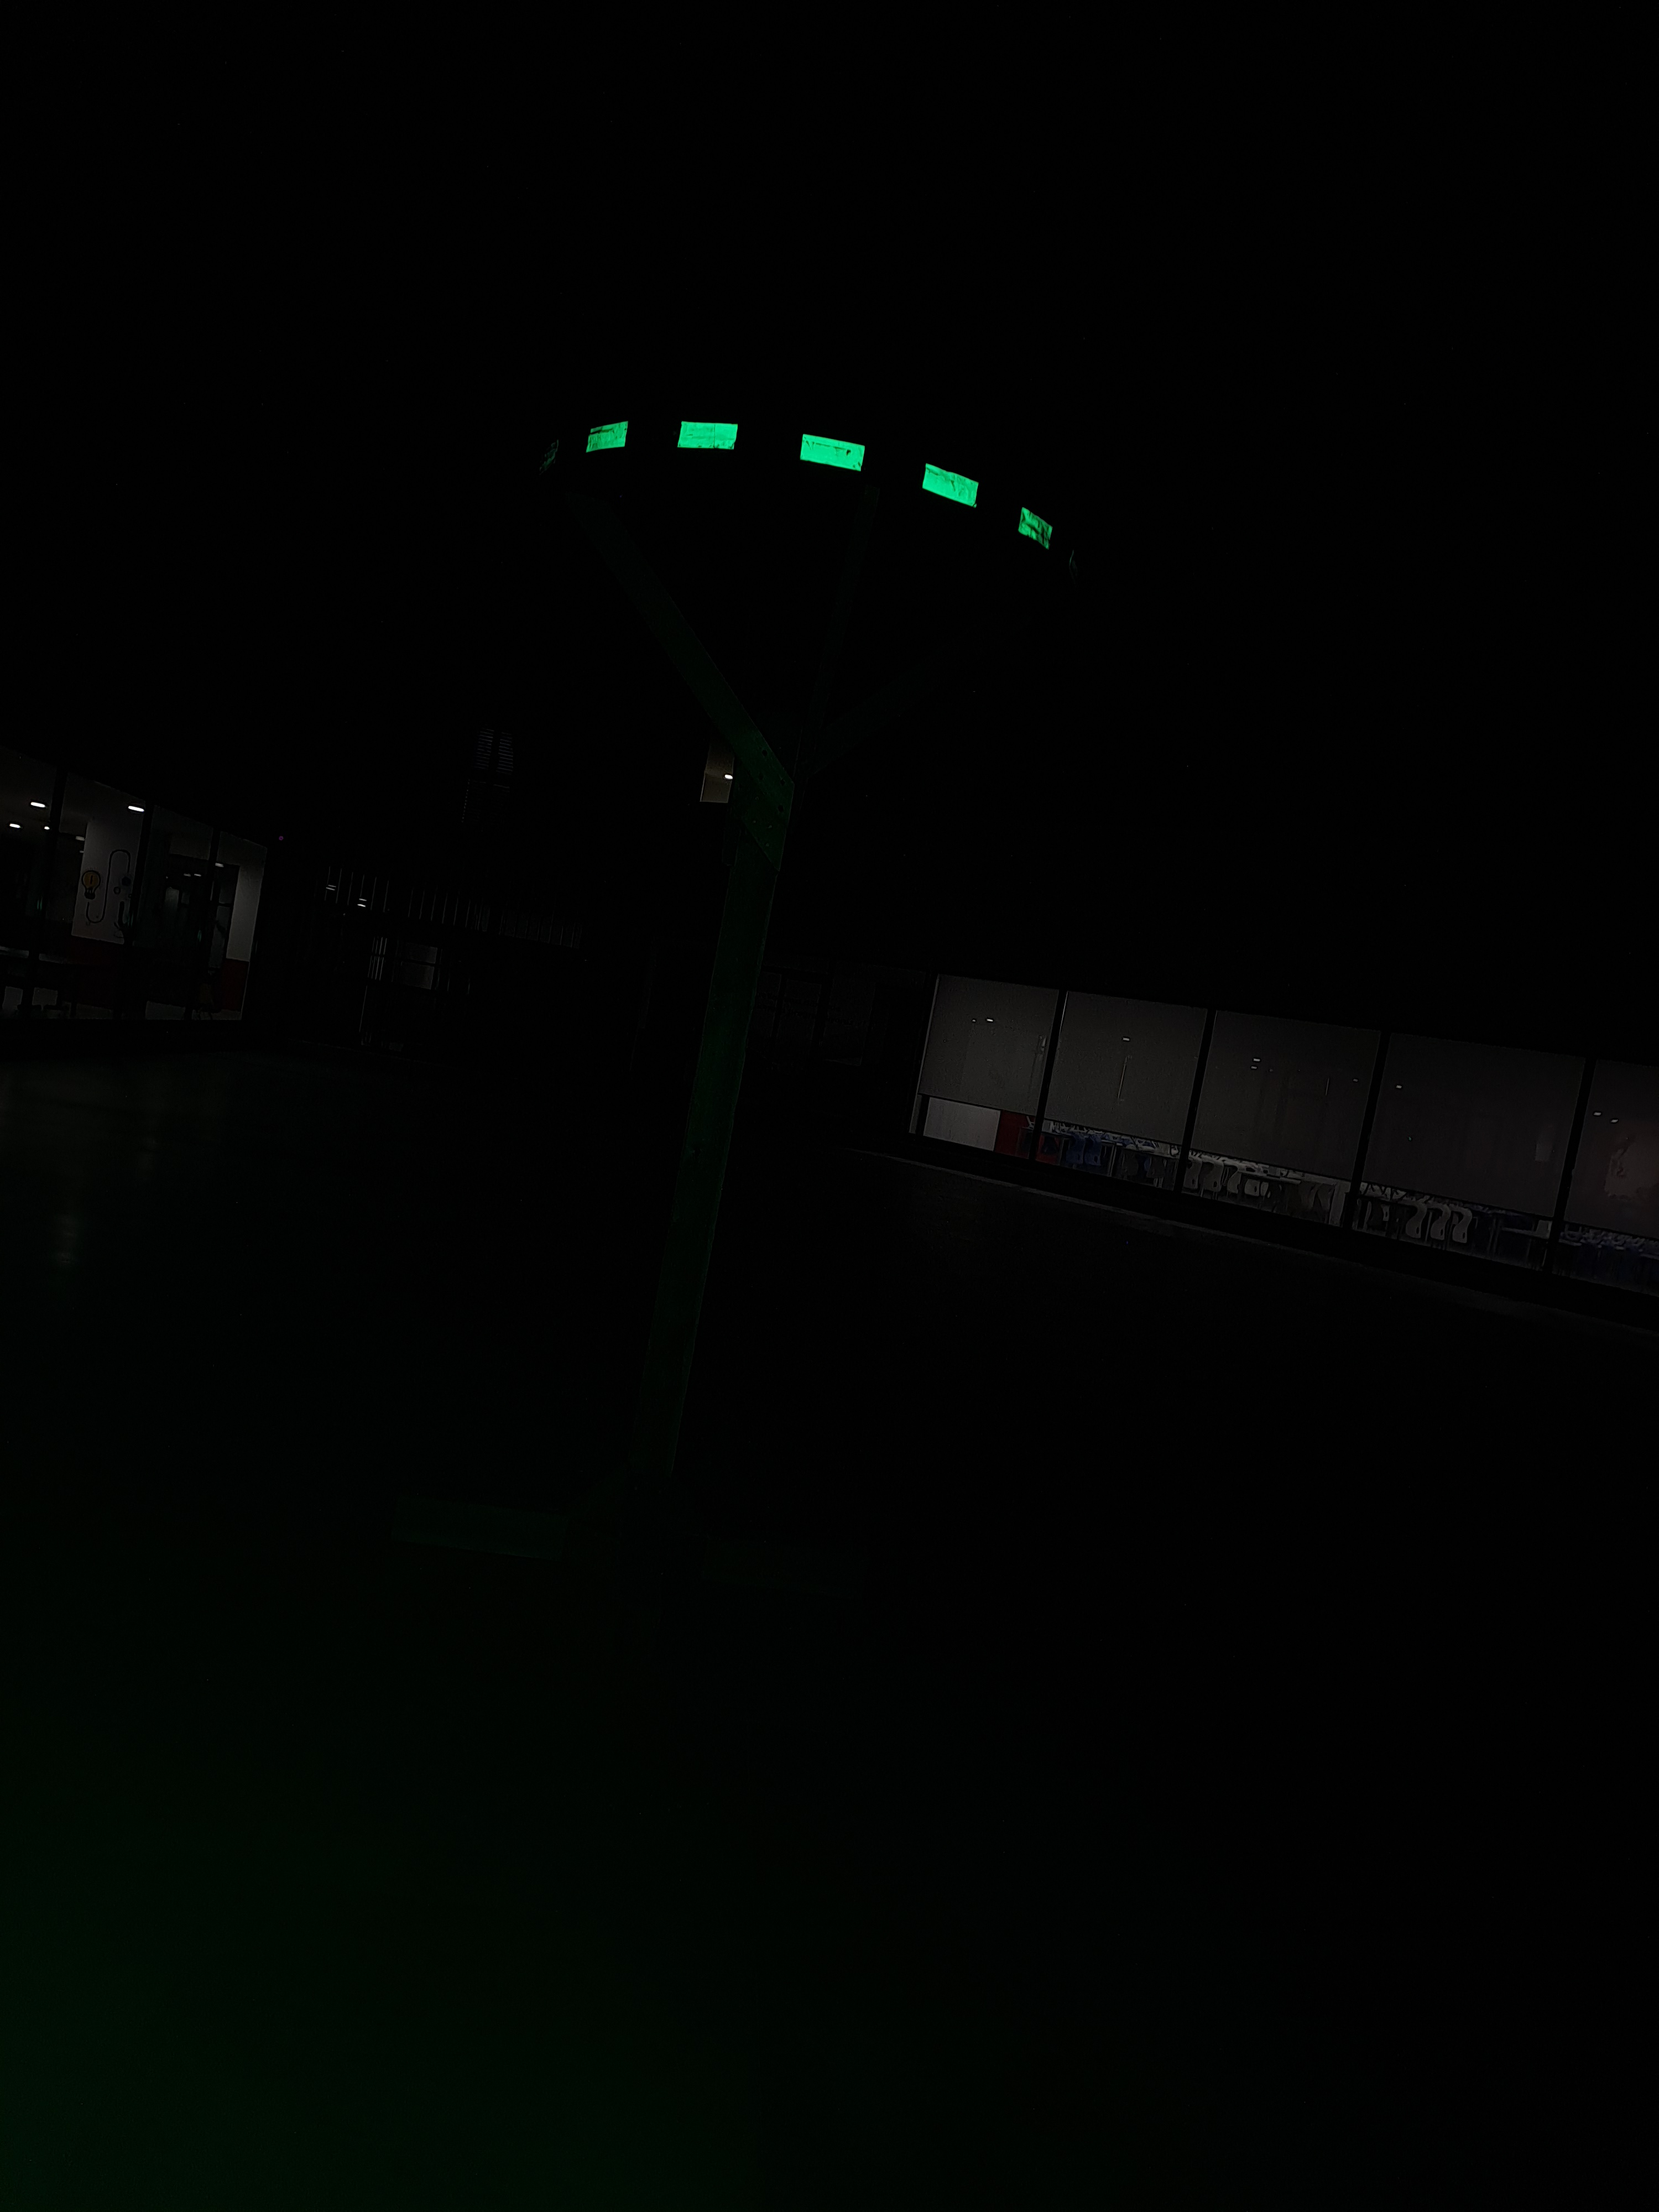hoop: (582, 399, 1054, 563)
